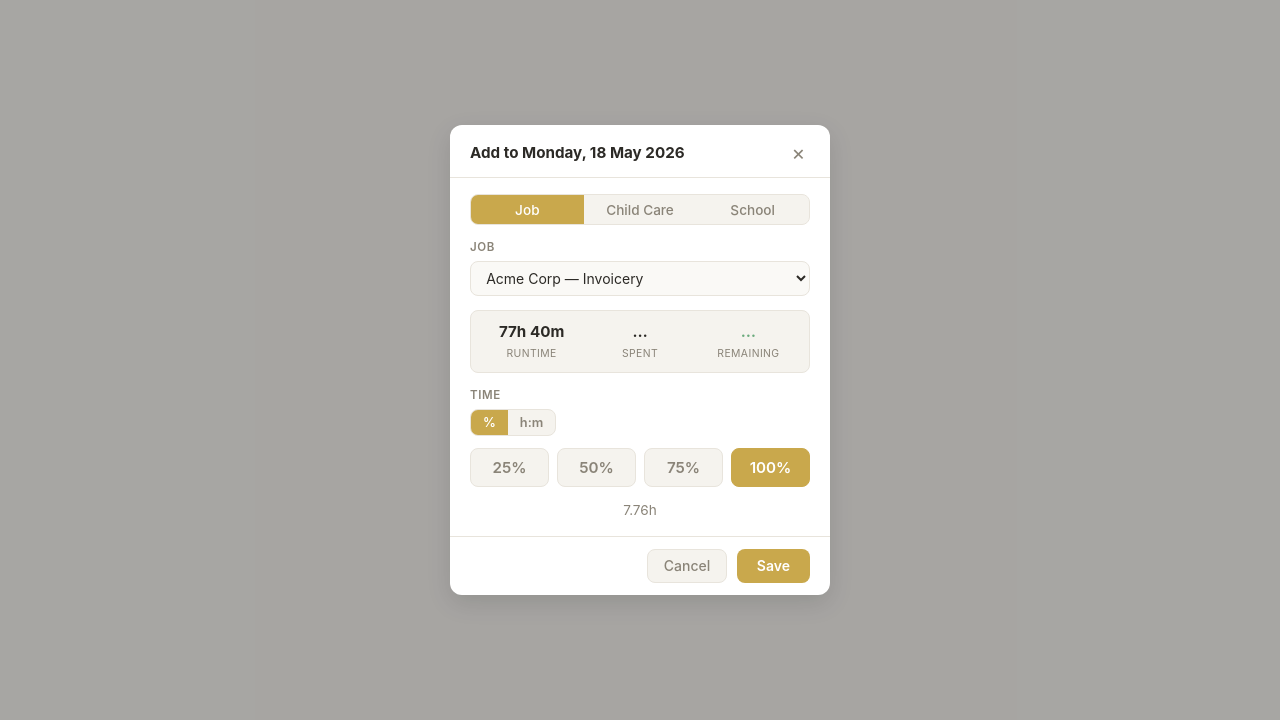
AddEntryModal › School tab shows Hours and Minutes fields instead of percentage buttons
The width and height of the screenshot is (1280, 720).
Click the button "School" at (753, 210), box x1=696 y1=195 x2=809 y2=224
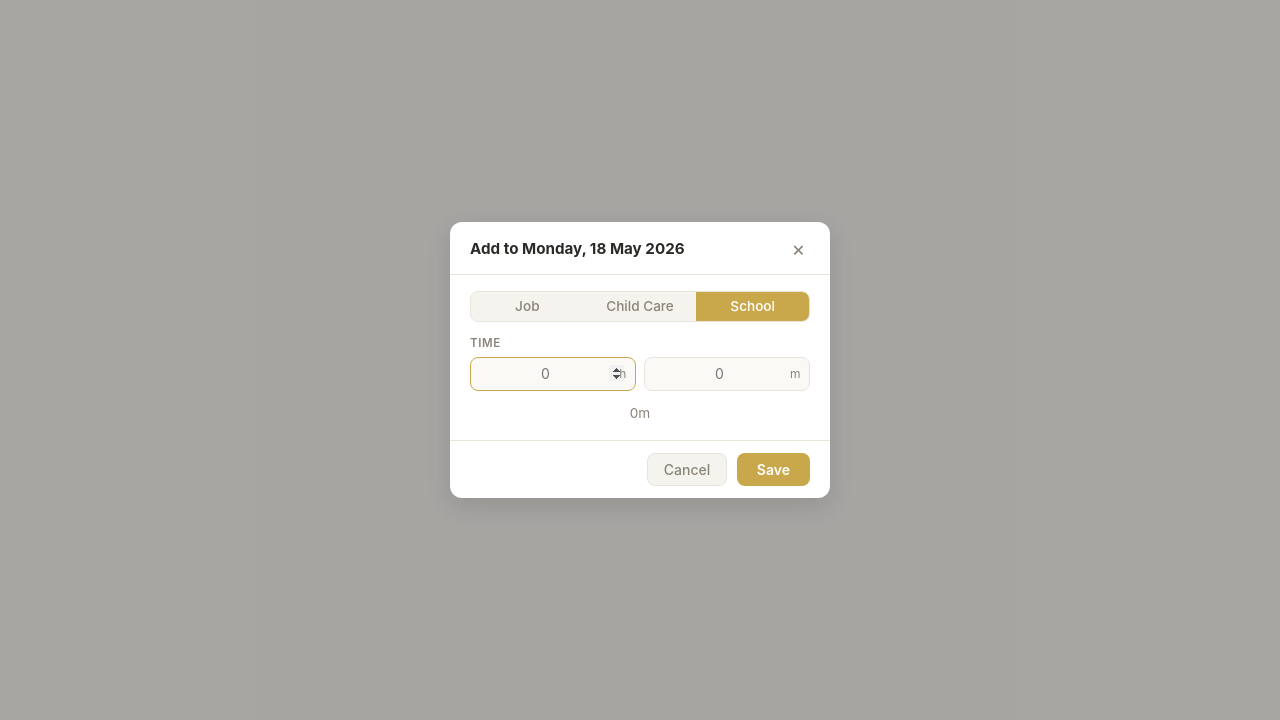
expect the button "25%" is gone: met
expect the dropdown is gone: met
expect the number field named "Hours" is shown: met, box x1=470 y1=357 x2=636 y2=391
